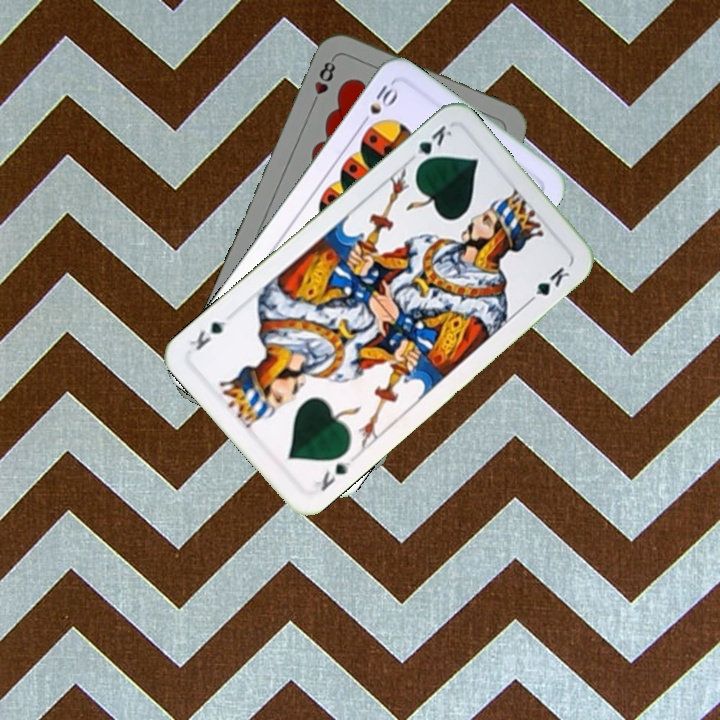GK: (404, 121, 455, 171), (309, 457, 356, 494)
H8: (307, 54, 338, 110)
S10: (356, 80, 400, 129)
